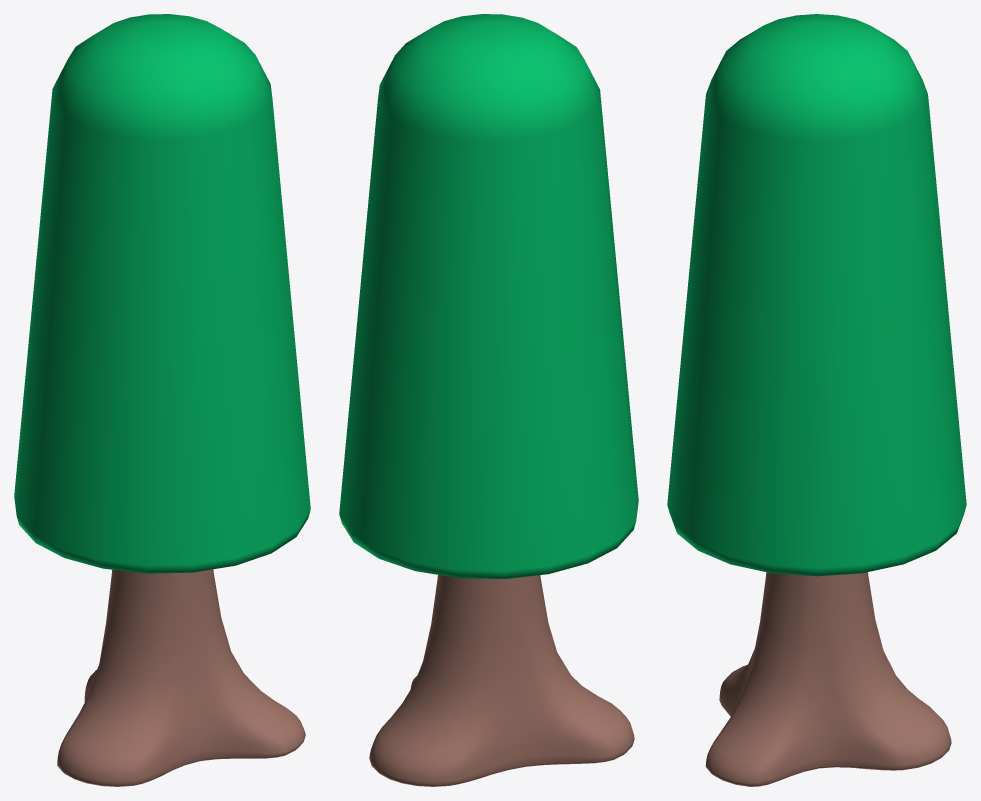
File: Town_7_Tree_1.glb
The picture shows the model from 3 angles, left to right: view 1: azimuth 30°, elevation 25°; view 2: azimuth 150°, elevation 25°; view 3: azimuth 270°, elevation 25°; orthographic projection.
Parts seen in each view (by area): view 1: Town_7_Tree_1; view 2: Town_7_Tree_1; view 3: Town_7_Tree_1.
Boxes of the visible parts, bbox=[...] form: Town_7_Tree_1: bbox=[14, 14, 310, 786]; Town_7_Tree_1: bbox=[339, 14, 638, 786]; Town_7_Tree_1: bbox=[667, 14, 966, 786].
Size of the model in its own units: 1.69 by 4.38 by 1.69.
Materials: 1 (1 with a texture image).
